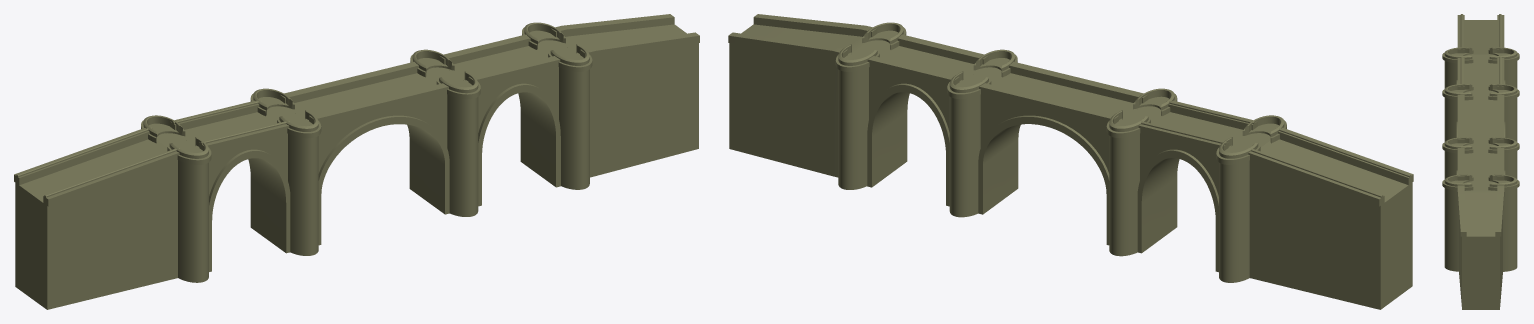
The model's file is Rock_Bridge02.fbx.
The picture shows the model from 3 angles, left to right: view 1: azimuth 30°, elevation 25°; view 2: azimuth 150°, elevation 25°; view 3: azimuth 270°, elevation 25°; orthographic projection. The views are drawn at different scales.
Visible parts, largest first — view 1: Rock_Bridge02; view 2: Rock_Bridge02; view 3: Rock_Bridge02.
Part boxes in pixels (box(x1,y1,x2,y2)): Rock_Bridge02: box(14, 14, 699, 309); Rock_Bridge02: box(728, 14, 1413, 309); Rock_Bridge02: box(1442, 14, 1519, 309).
Bounding box in the file's own units: 9.91 × 1.87 × 1.48.
